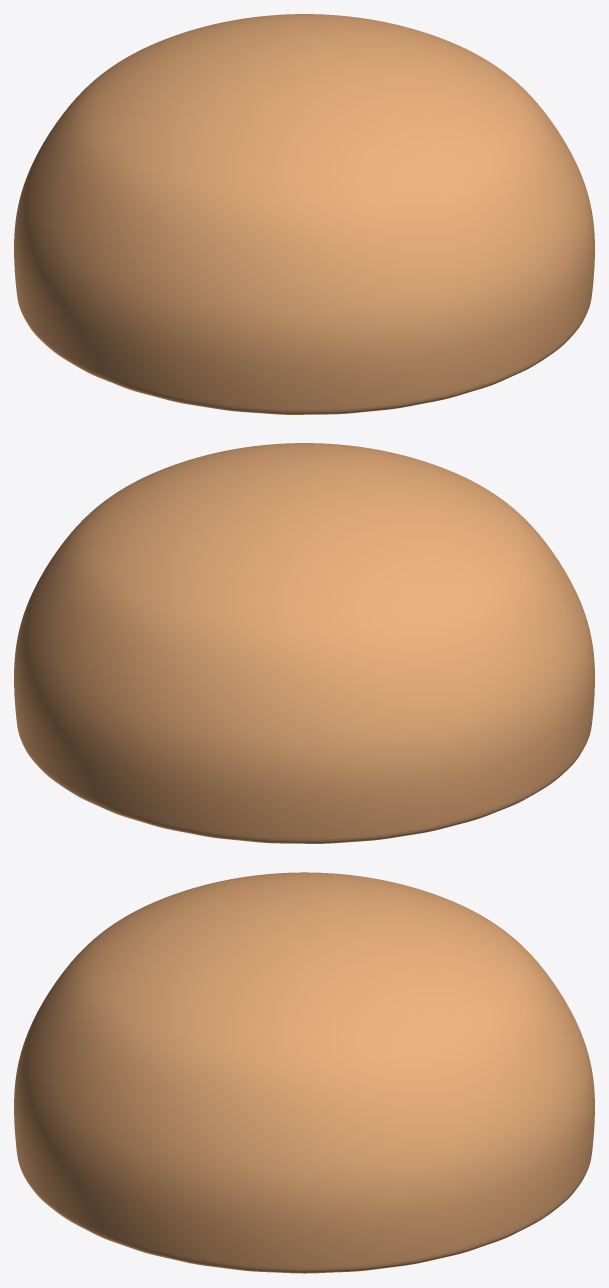
File: topbun1.gltf
3 renders of one model, top to bottom at view 1: azimuth 30°, elevation 25°; view 2: azimuth 150°, elevation 25°; view 3: azimuth 270°, elevation 25°, orthographic.
Visible parts, largest first — view 1: Sphere; view 2: Sphere; view 3: Sphere.
Boxes of the visible parts, box(x1,y1,x2,y2) form: Sphere: box(14, 14, 594, 414); Sphere: box(14, 443, 594, 843); Sphere: box(14, 872, 594, 1273).
Bounding box in the file's own units: 1.98 × 0.9248 × 1.98.
